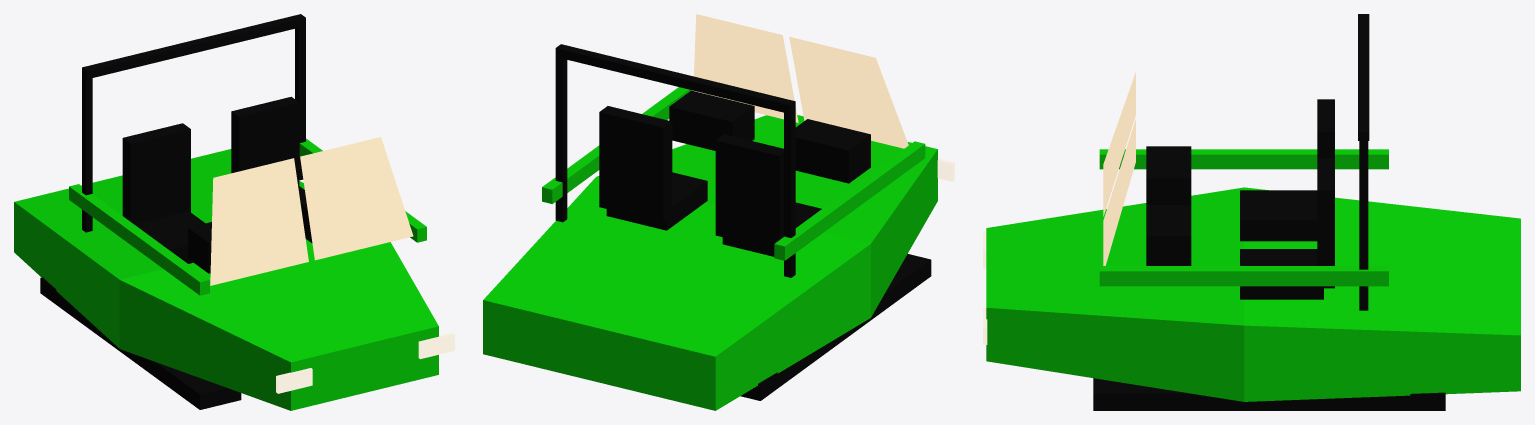
File: runabout.glb
3 renders of one model, left to right at view 1: azimuth 30°, elevation 25°; view 2: azimuth 150°, elevation 25°; view 3: azimuth 270°, elevation 25°, orthographic. The views are drawn at different scales.
Visible parts, largest first — view 1: yacht:hover_vehicle; view 2: yacht:hover_vehicle; view 3: yacht:hover_vehicle.
Part boxes in pixels (box(x1,y1,x2,y2)): yacht:hover_vehicle: box(14, 14, 454, 410); yacht:hover_vehicle: box(483, 14, 954, 410); yacht:hover_vehicle: box(983, 14, 1520, 410).
Bounding box in the file's own units: 2.6 × 2.41 × 4.28.
